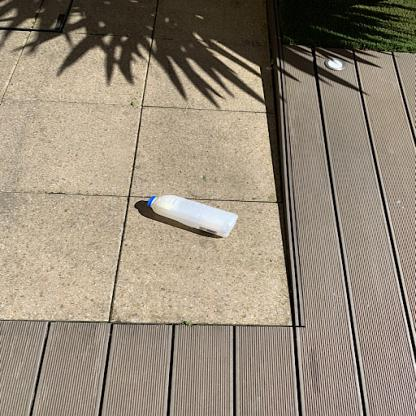trash: (141, 193, 244, 239)
